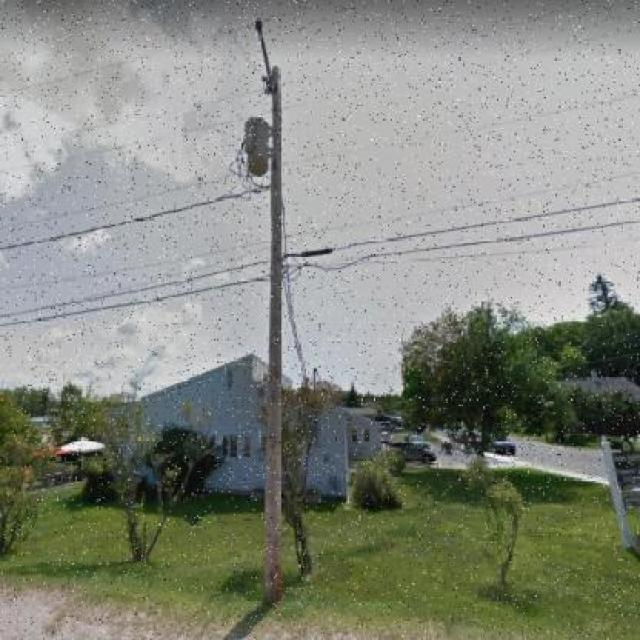pole: (191, 19, 354, 612)
